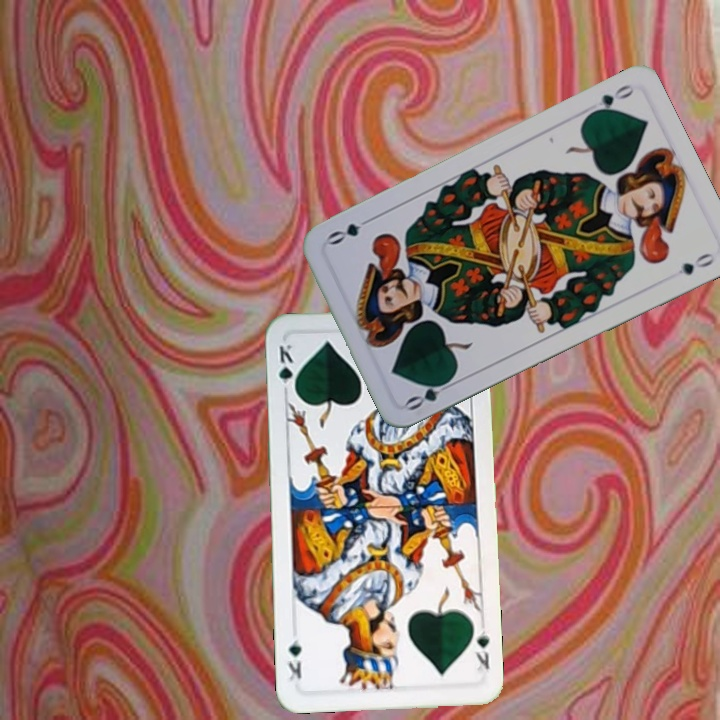GK: (274, 340, 298, 397), (470, 626, 492, 678)
GO: (402, 373, 458, 413), (583, 80, 636, 120)
